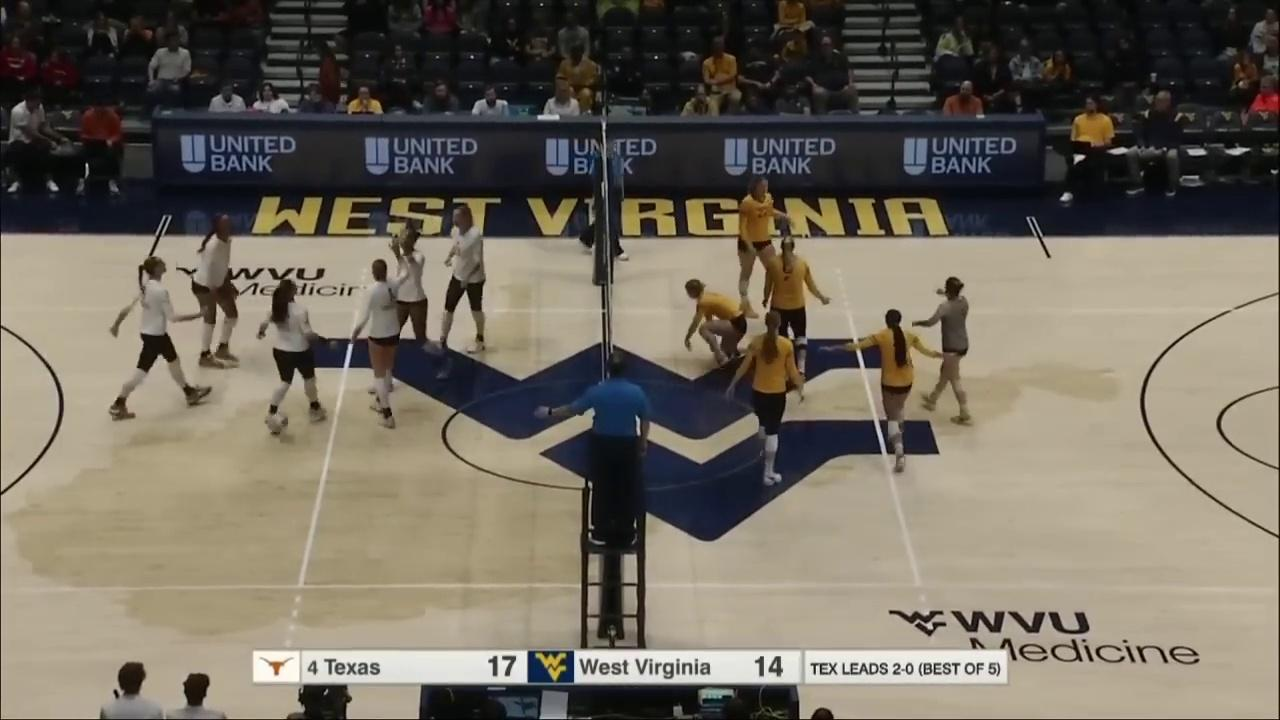player: (821, 309, 953, 471), (108, 254, 210, 418), (730, 311, 807, 487), (373, 229, 455, 393), (349, 245, 413, 429), (761, 237, 831, 382), (260, 279, 327, 430), (187, 213, 243, 372), (431, 207, 489, 350), (914, 277, 970, 423), (737, 177, 791, 318), (683, 280, 749, 363)
refree: (542, 353, 651, 541), (581, 143, 629, 262)
